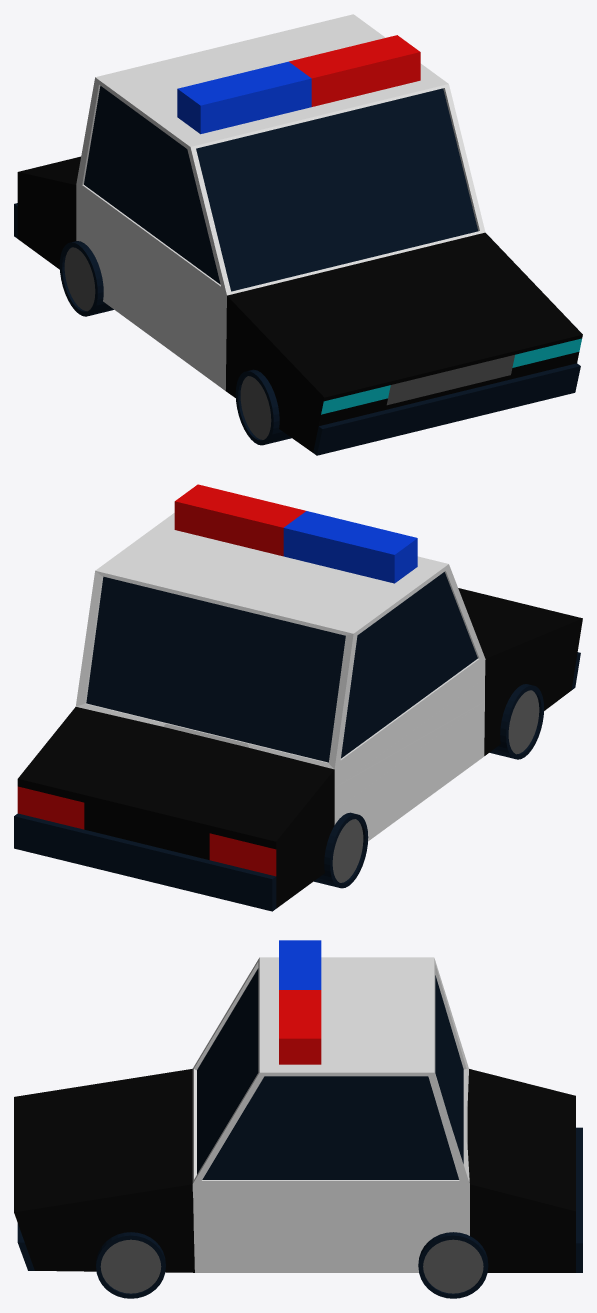
Rendered from Police.fbx.
3 renders of one model, top to bottom at view 1: azimuth 30°, elevation 25°; view 2: azimuth 150°, elevation 25°; view 3: azimuth 270°, elevation 25°, orthographic. The views are drawn at different scales.
Visible parts, largest first — view 1: Police; view 2: Police; view 3: Police.
Boxes of the visible parts, left/top/right/bottom form: Police: left=14, top=14, right=582, bottom=455; Police: left=14, top=484, right=582, bottom=911; Police: left=14, top=940, right=582, bottom=1298.
Bounding box in the file's own units: 274 × 261 × 542.
